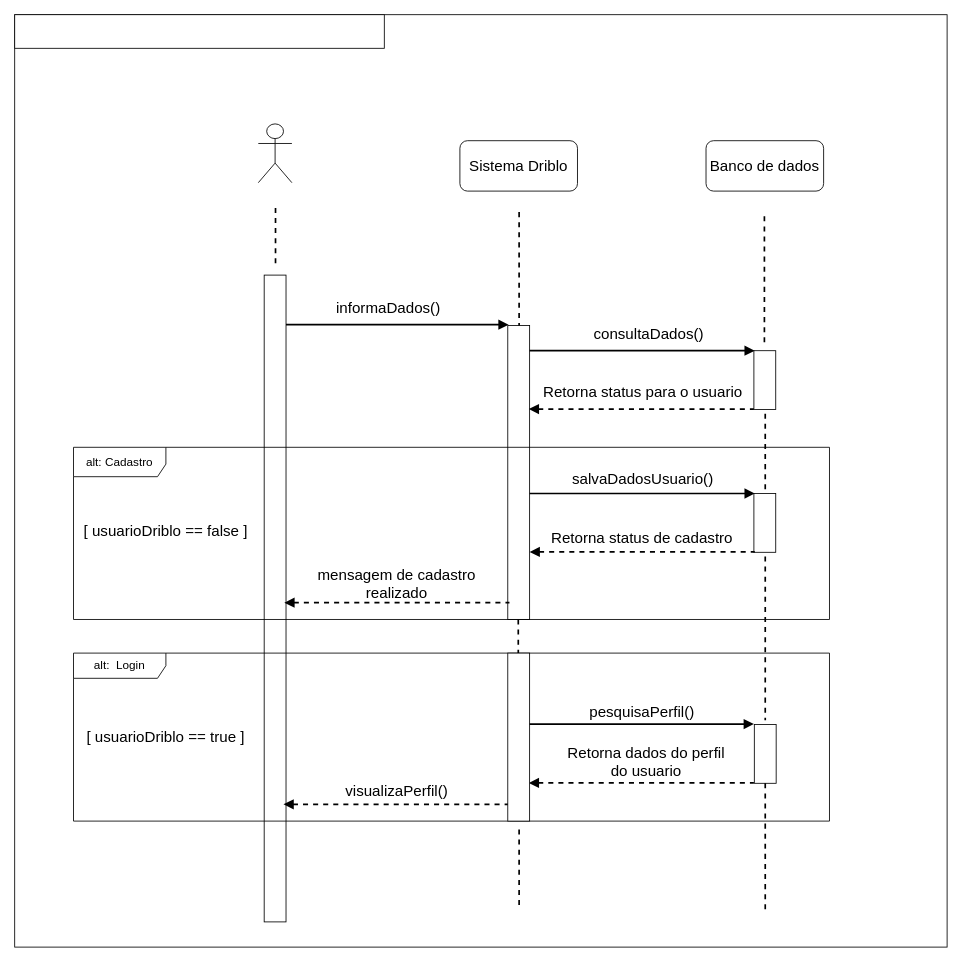
This 962x962 diagram has some shape labels left out. The shapes that lost their labels are listed below. From the top down, each one's centre as x and y in pixels, then its label:
(x=199, y=31): Fluxo Inicial do Sistema
(x=274, y=153): Usuário peladeiro
